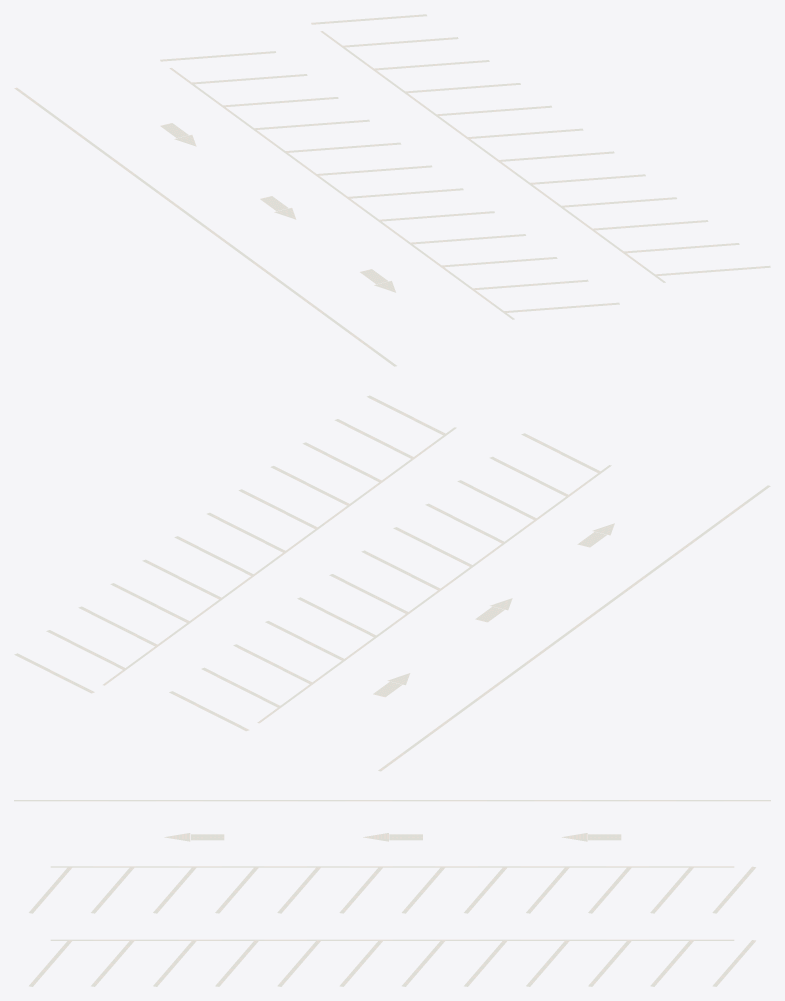
Rendered from lot_stall_lines.glb.
3 renders of one model, top to bottom at view 1: azimuth 30°, elevation 25°; view 2: azimuth 150°, elevation 25°; view 3: azimuth 270°, elevation 25°, orthographic. The views are drawn at different scales.
Visible parts, largest first — view 1: lot_stall_lines; view 2: lot_stall_lines; view 3: lot_stall_lines.
Boxes of the visible parts, x1,y1,x2,y2 form: lot_stall_lines: (14, 14, 770, 366); lot_stall_lines: (14, 395, 770, 771); lot_stall_lines: (14, 800, 770, 986).
Bounding box in the file's own units: 18.94 × 0.004 × 32.4.
Materials: 1 (1 with a texture image).
